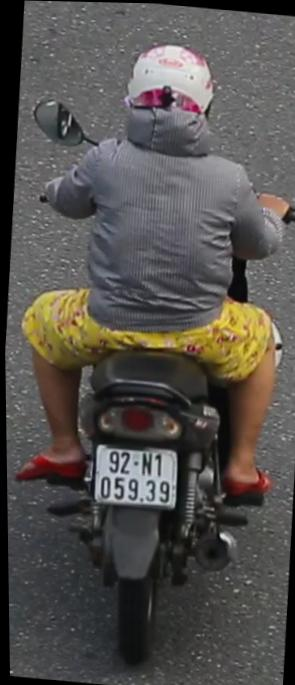LP: (87, 431, 183, 512)
helmet: (122, 37, 219, 121)
